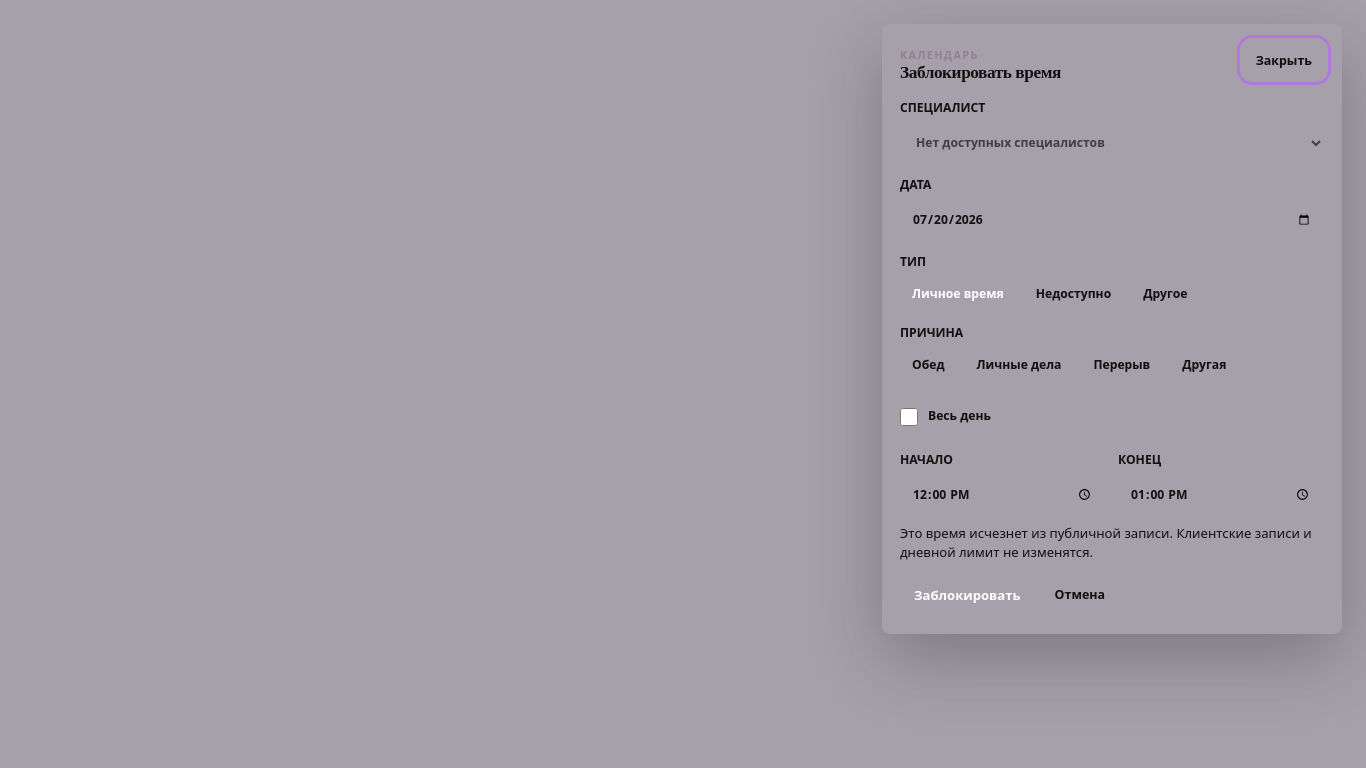
Test case: CalendarBlockDialog › keeps the dialog open when the server reports an appointment conflict
Click the button "Заблокировать" at (967, 595), box [900,574,1035,616]
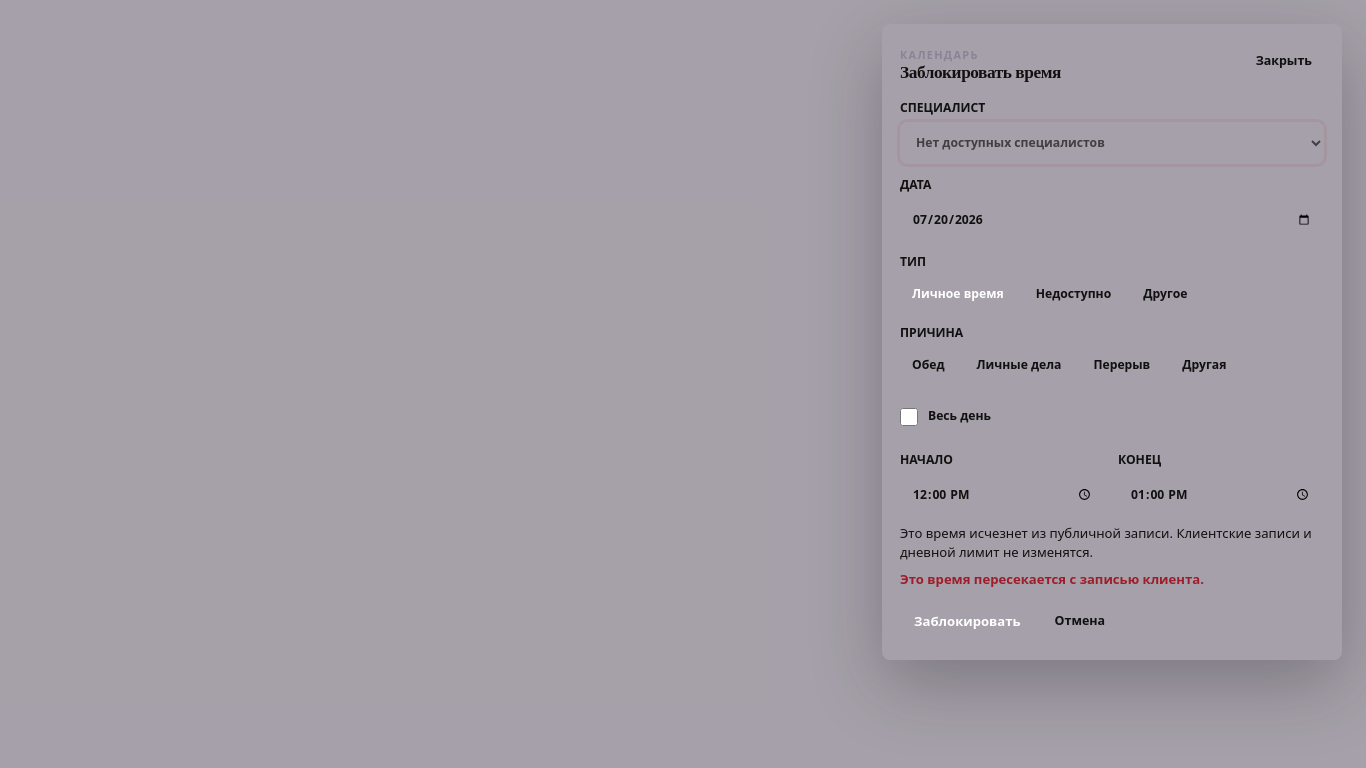
Expected: the dialog "Заблокировать время" is shown, [882,24,1342,660]
Now the message shows "пересекается с записью клиента", box [900,570,1204,588]
